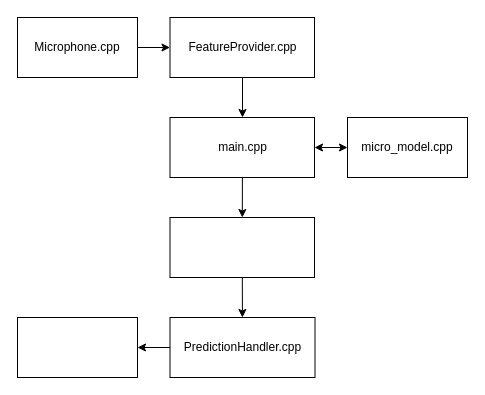
Image size: 485x395. Some labels were removed from this diagram. Each missing label, with the box of its shape:
PredictionInterpreter.cpp: (169, 216, 314, 278)
SDcard.cpp: (16, 316, 138, 378)
